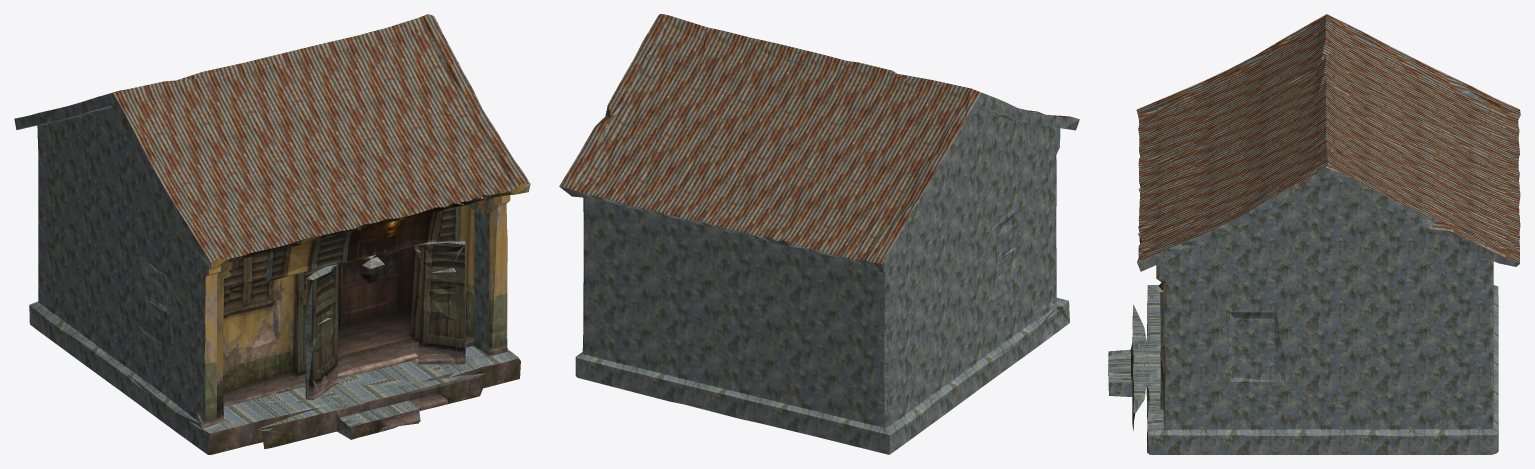
The model's file is tube_house_c_reduced.glb.
3 views of the same model, side by side, from view 1: azimuth 30°, elevation 25°; view 2: azimuth 150°, elevation 25°; view 3: azimuth 270°, elevation 25° (orthographic). The views are drawn at different scales.
Parts seen in each view (by area): view 1: Roof, Wall, Front; view 2: Wall, Roof; view 3: Wall, Roof, Front.
Boxes of the visible parts, bbox=[...] form: Roof: bbox=[26, 14, 530, 261]; Wall: bbox=[14, 33, 520, 454]; Front: bbox=[202, 67, 530, 454]; Wall: bbox=[560, 41, 1079, 454]; Roof: bbox=[559, 14, 1077, 263]; Wall: bbox=[1108, 88, 1519, 454]; Roof: bbox=[1136, 14, 1520, 263]; Front: bbox=[1108, 112, 1166, 451].
Size of the model in its own units: 1.74 by 1.55 by 1.98.
3 materials, 3 textured.
